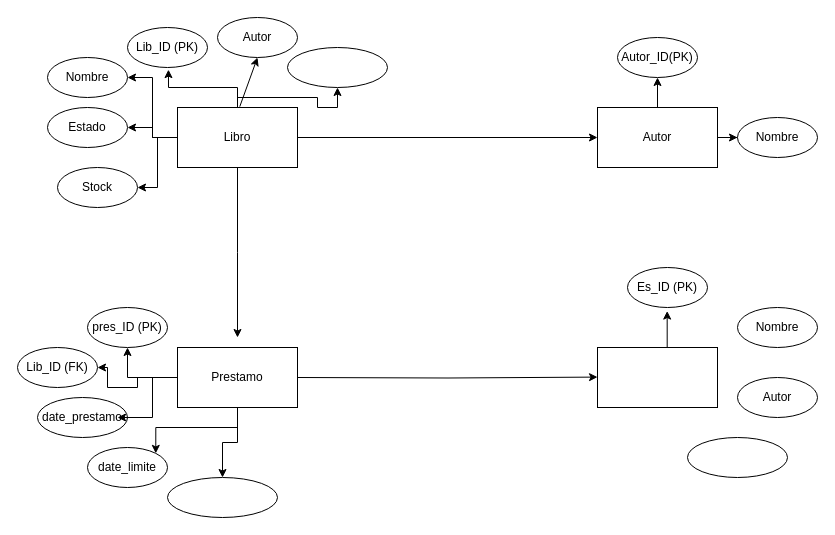
This 835x535 diagram has some shape labels left out. Here are the shapes that lost their labels. From the top down, the centre of each, then its label:
At pixel 337 67: "Año_publicacion".
At pixel 657 377: "Estudiante".
At pixel 737 457: "Carnet(UNIQUE)".
At pixel 222 497: "date_devolucion".
